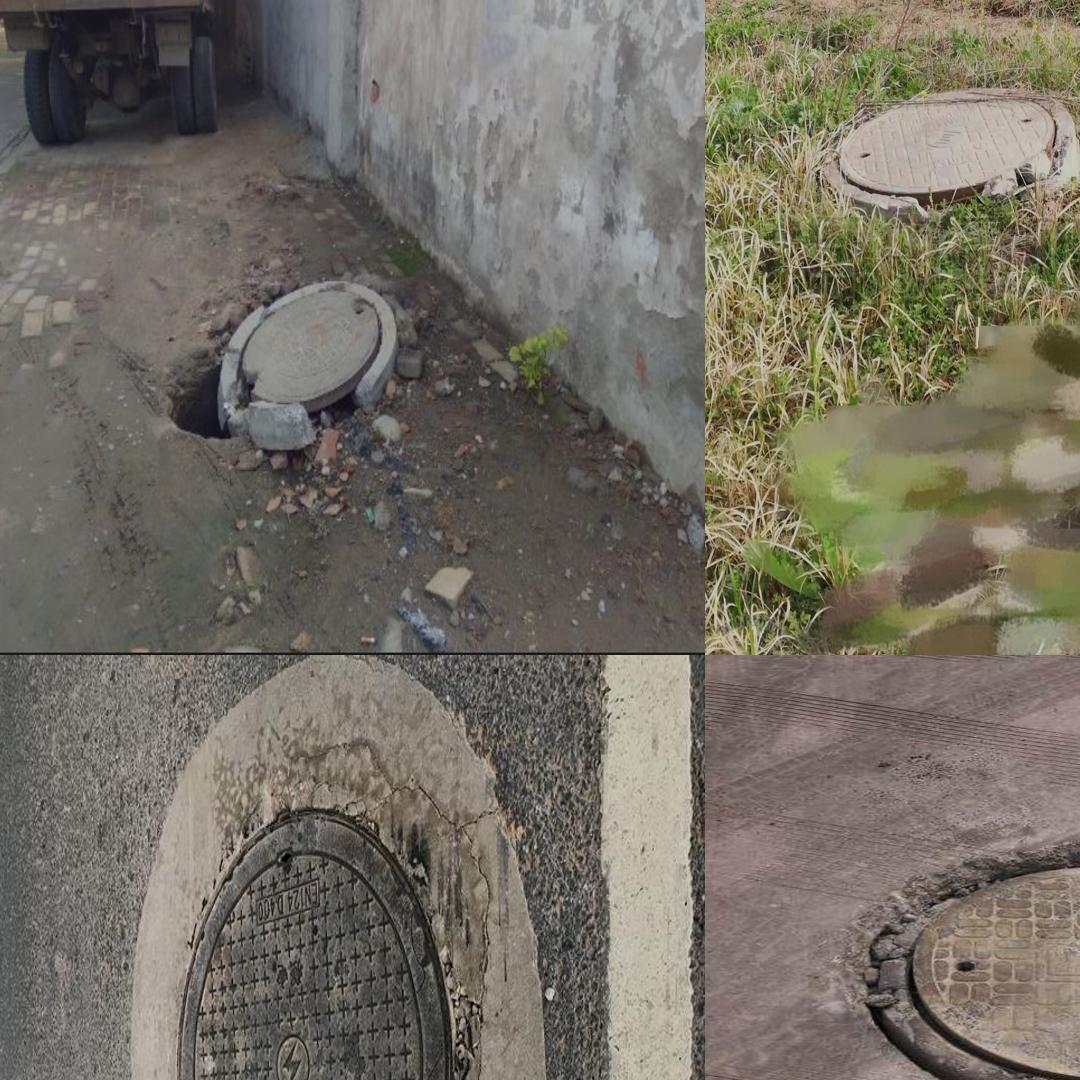circle: (133, 677, 547, 1080), (851, 845, 1080, 1080), (804, 79, 1077, 223), (185, 277, 400, 454)
